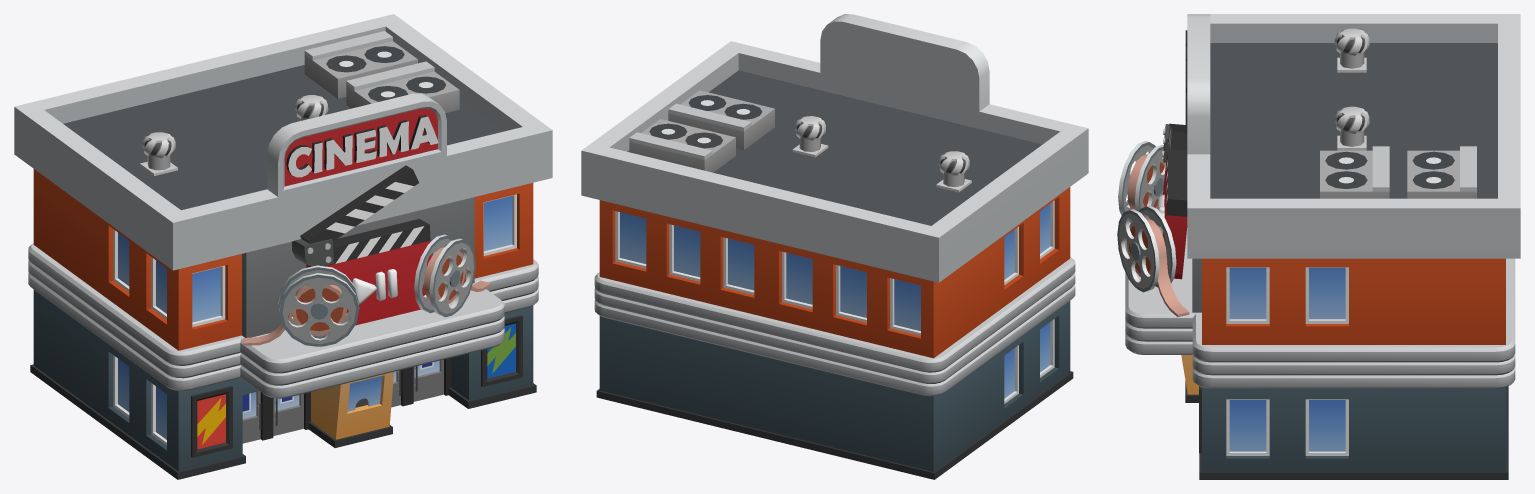
File: cinema_001.glb
3 renders of one model, left to right at view 1: azimuth 30°, elevation 25°; view 2: azimuth 150°, elevation 25°; view 3: azimuth 270°, elevation 25°, orthographic. The views are drawn at different scales.
Visible parts, largest first — view 1: cinema_001; view 2: cinema_001; view 3: cinema_001.
Boxes of the visible parts, left/top/right/bottom form: cinema_001: left=14, top=14, right=552, bottom=479; cinema_001: left=581, top=14, right=1088, bottom=479; cinema_001: left=1117, top=14, right=1520, bottom=479.
Bounding box in the file's own units: 14.09 × 11.49 × 12.36.
Materials: 2 (2 with a texture image).
